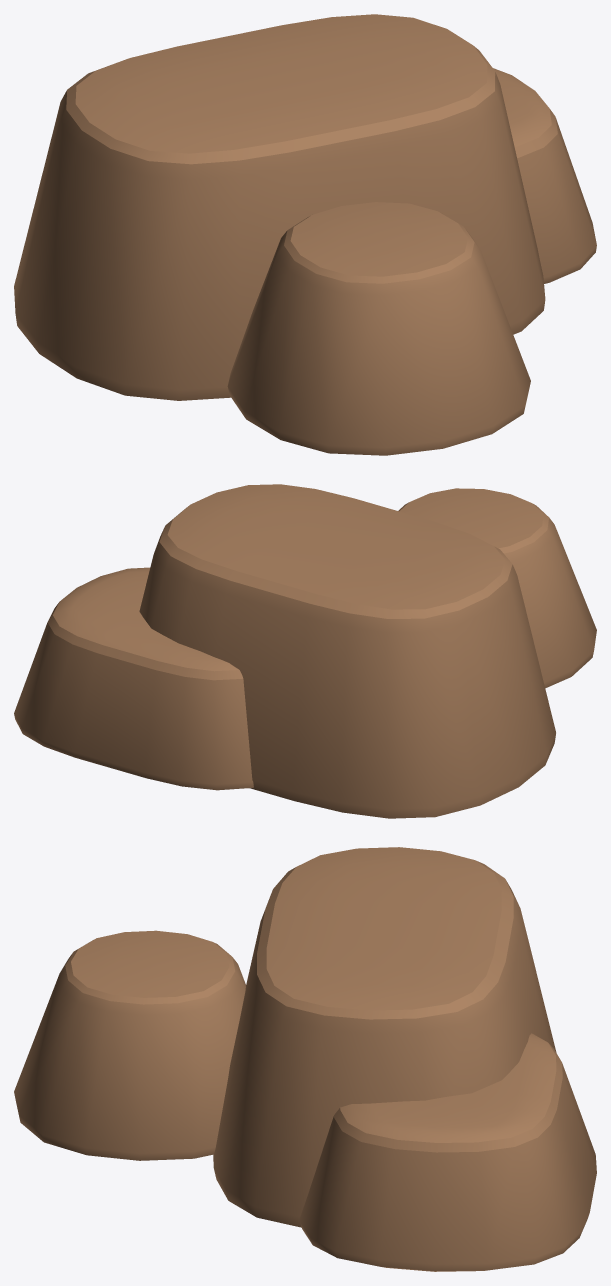
File: RockPlatforms_2_001.gltf
The picture shows the model from 3 angles, top to bottom: view 1: azimuth 30°, elevation 25°; view 2: azimuth 150°, elevation 25°; view 3: azimuth 270°, elevation 25°; orthographic projection. The views are drawn at different scales.
Visible parts, largest first — view 1: RockPlatforms_2.001; view 2: RockPlatforms_2.001; view 3: RockPlatforms_2.001.
Part boxes in pixels (box(x1,y1,x2,y2)): RockPlatforms_2.001: box(14, 14, 596, 455); RockPlatforms_2.001: box(14, 484, 596, 818); RockPlatforms_2.001: box(14, 847, 596, 1271).
Size of the model in its own units: 6.85 by 2.84 by 6.9.
